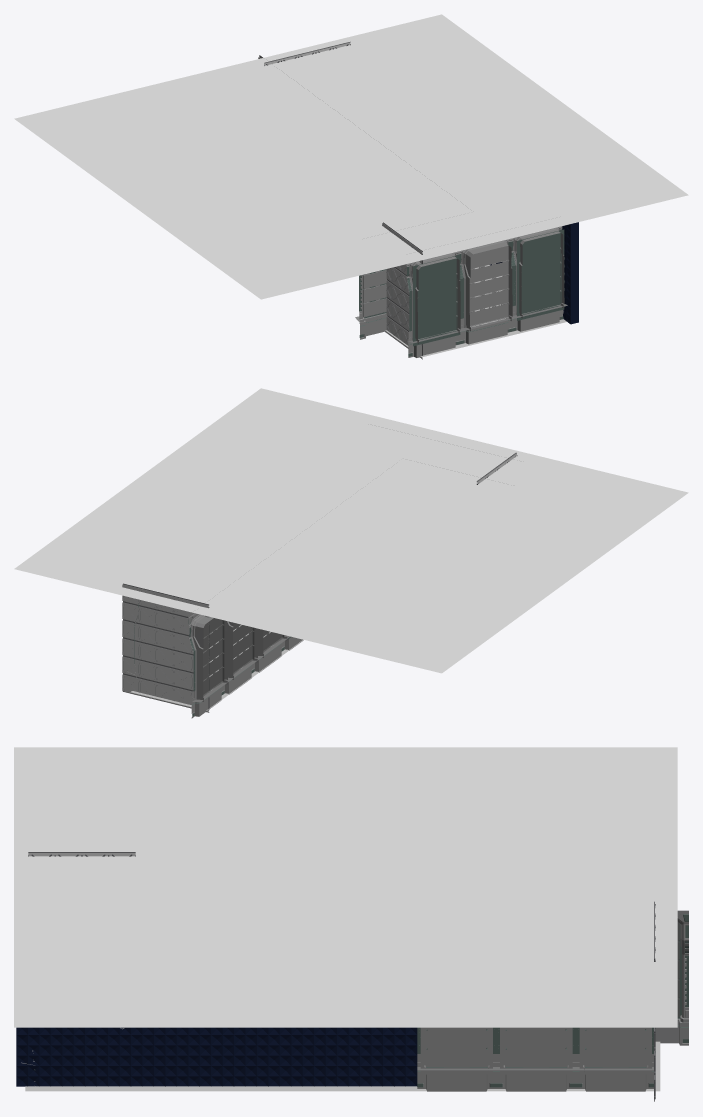
Rendered from Tesst.fbx.
3 renders of one model, top to bottom at view 1: azimuth 30°, elevation 25°; view 2: azimuth 150°, elevation 25°; view 3: azimuth 270°, elevation 25°, orthographic. The views are drawn at different scales.
Parts seen in each view (by area): view 1: Plane, Cube.008, Cube.016, Cube.006, CantGrap.001; view 2: Plane, Cube.010, Cube.013; view 3: Plane, CantGrap.001, Cube.003, Plane.001, Cube.013, Cube.016.
Boxes of the visible parts, bbox=[...] form: Plane: bbox=[14, 14, 688, 299]; Cube.008: bbox=[406, 226, 567, 357]; Cube.016: bbox=[382, 222, 422, 359]; Cube.006: bbox=[355, 269, 387, 339]; CantGrap.001: bbox=[490, 222, 578, 324]; Plane: bbox=[14, 388, 688, 673]; Cube.010: bbox=[122, 583, 209, 712]; Cube.013: bbox=[188, 612, 303, 718]; Plane: bbox=[14, 747, 677, 1027]; CantGrap.001: bbox=[16, 1027, 417, 1086]; Cube.003: bbox=[417, 1027, 655, 1091]; Plane.001: bbox=[25, 1041, 660, 1091]; Cube.013: bbox=[655, 910, 688, 1045]; Cube.016: bbox=[28, 852, 135, 856].
Bounding box in the file's own units: 26203 × 6336 × 26650.
